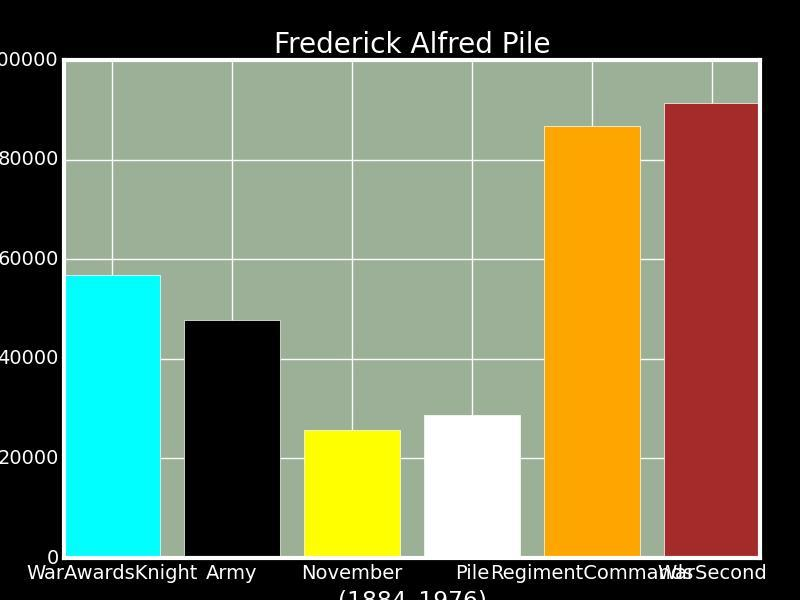axis: (0, 51, 59, 567)
rectangle: (664, 103, 760, 558), (544, 126, 640, 558), (64, 275, 160, 558), (184, 320, 280, 558), (424, 415, 520, 558), (304, 430, 400, 558)
